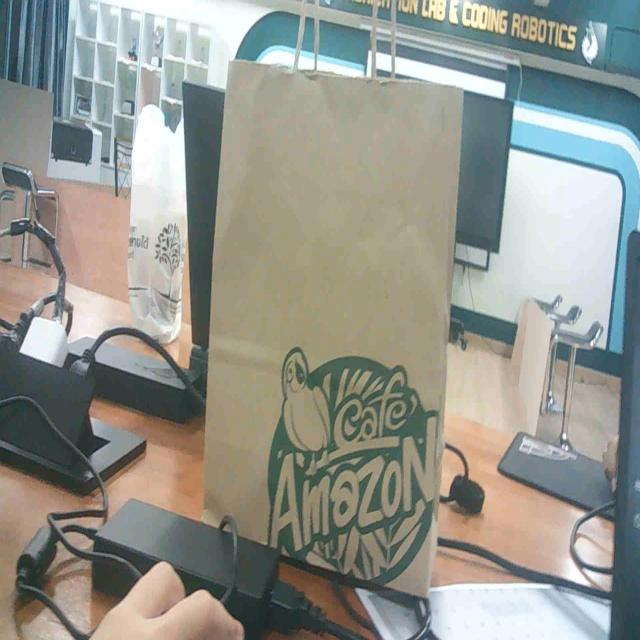bag: (199, 30, 466, 606)
